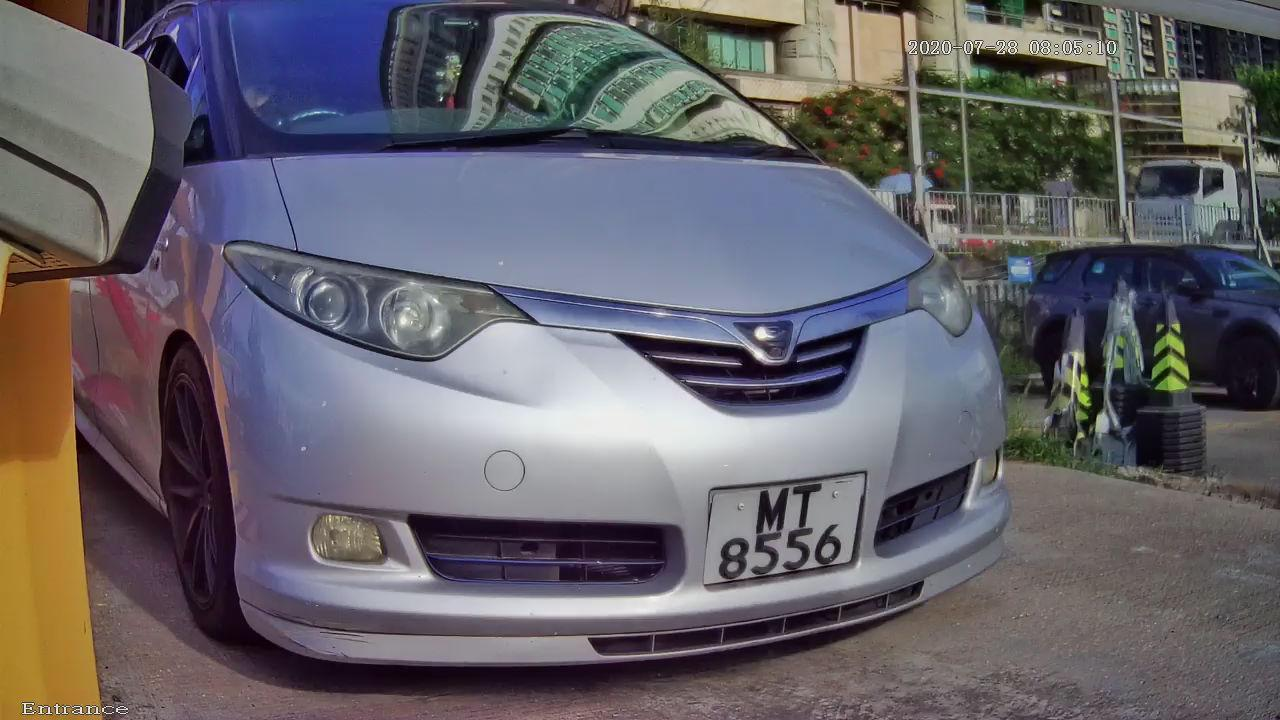privatecar: (58, 7, 1121, 711)
